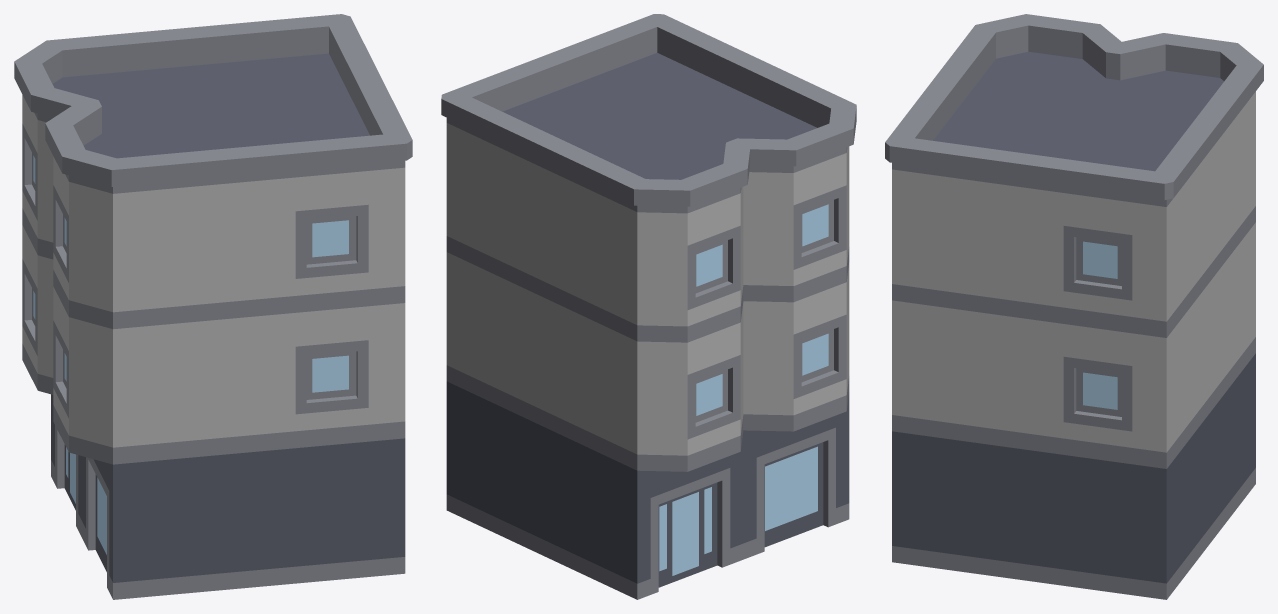
Rendered from variant_10.fbx.
3 views of the same model, side by side, from view 1: azimuth 30°, elevation 25°; view 2: azimuth 150°, elevation 25°; view 3: azimuth 270°, elevation 25° (orthographic). The views are drawn at different scales.
Visible parts, largest first — view 1: small_buildingA; view 2: small_buildingA; view 3: small_buildingA.
Boxes of the visible parts, x1,y1,x2,y2 form: small_buildingA: (14, 14, 412, 599); small_buildingA: (441, 14, 856, 599); small_buildingA: (885, 14, 1263, 599).
Bounding box in the file's own units: 111 × 128 × 105.
